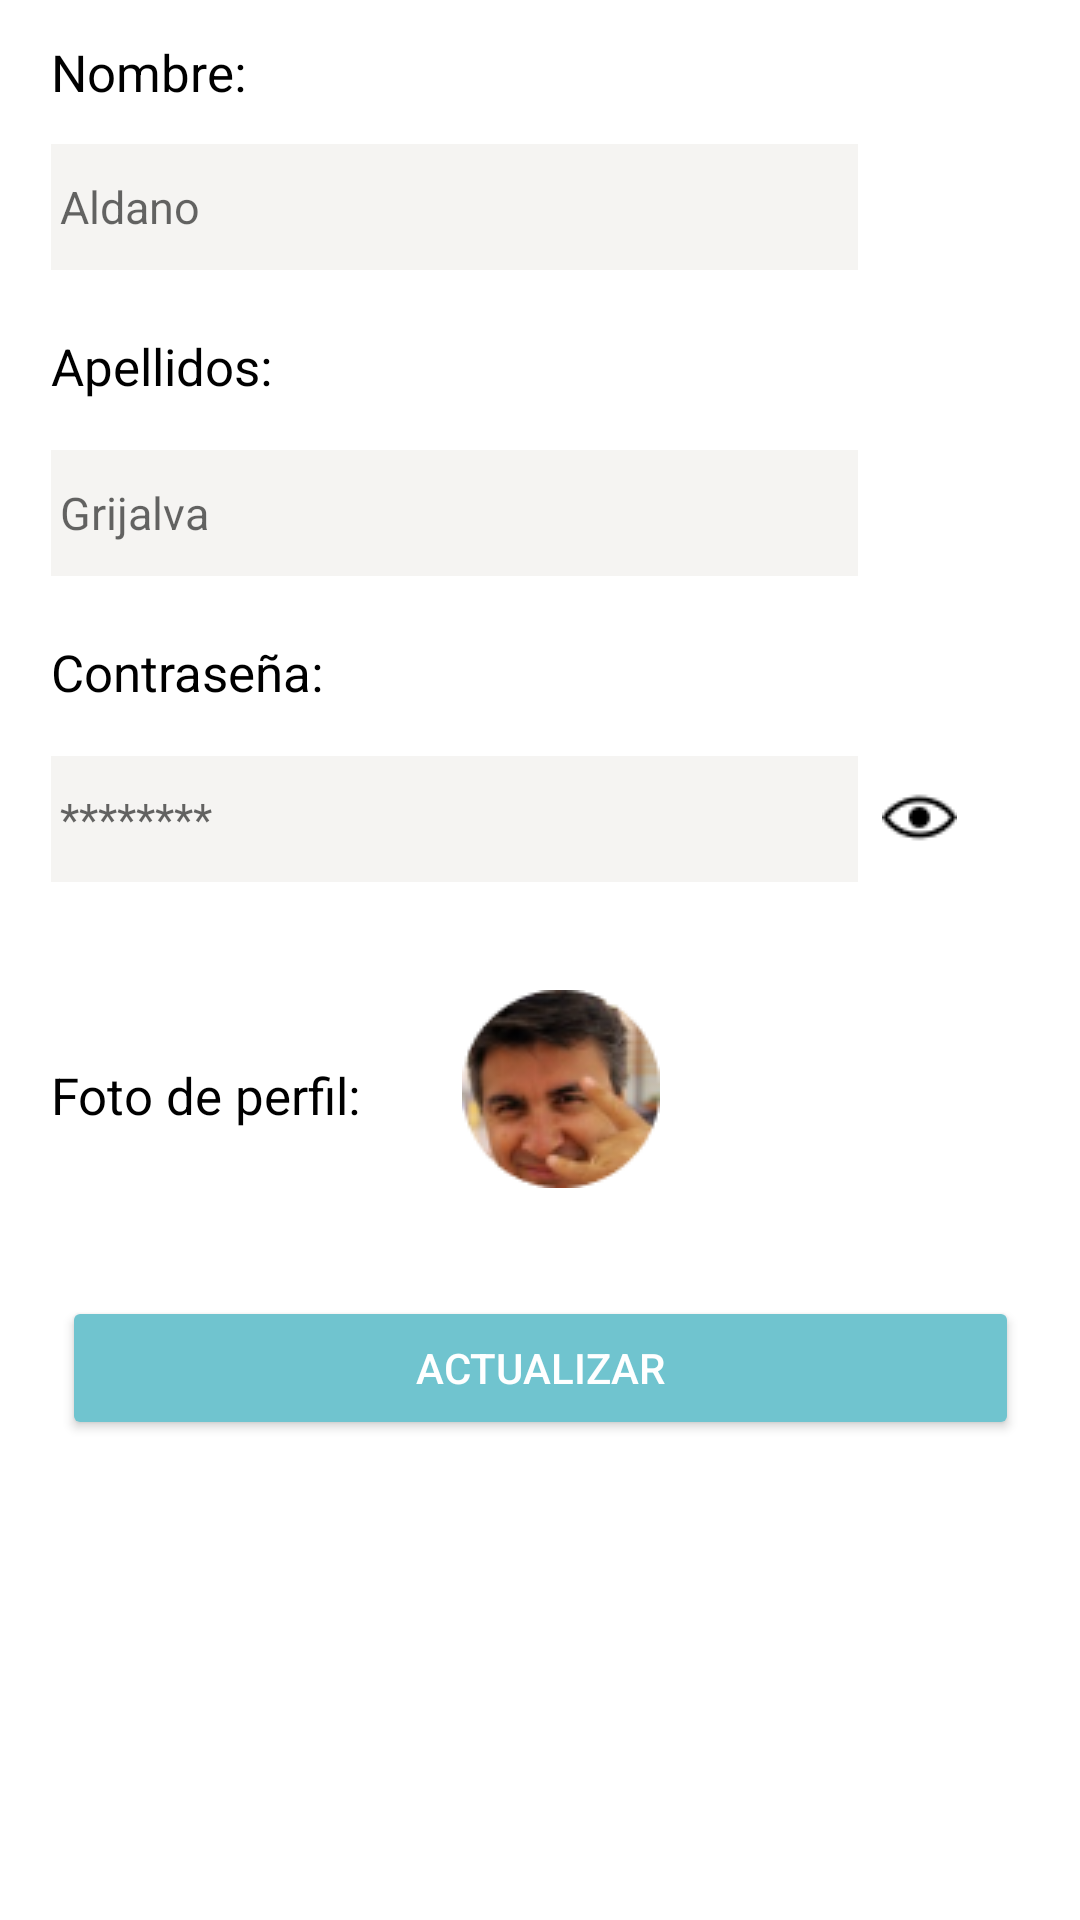

Icon bounding boxes for this 1080px×1920px phone screenshot, format (x1, y1, x2, y2):
ojo: (882, 794, 957, 841)
